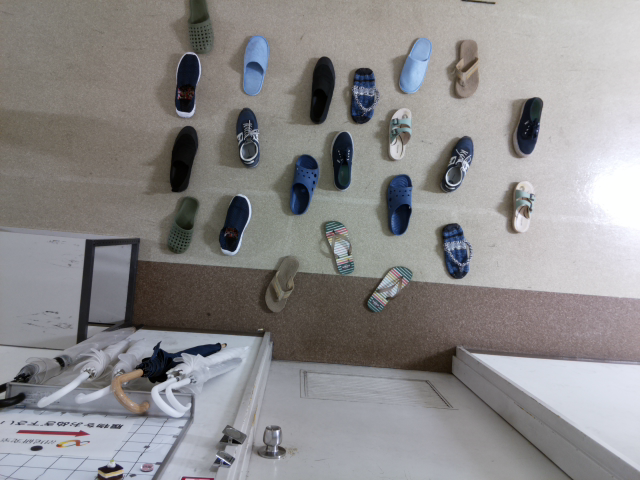Copy of Copy of Copy of Copy of Copy of Copy of Copy of Copy of Copy of Copy of: (302, 53, 340, 127), (167, 51, 207, 121), (285, 149, 323, 221), (162, 123, 201, 193), (437, 131, 477, 197), (379, 172, 418, 238), (232, 103, 265, 175), (327, 125, 360, 195), (237, 31, 270, 99), (177, 1, 217, 56), (346, 65, 380, 128), (385, 101, 417, 167)
Copy of Copy of Copy of Copy of Copy of Copy of Copy of Copy of Copy of shoe: (392, 33, 435, 98)
Copy of Copy of Copy of Copy of Copy of Copy of Copy of Copy of shoe: (447, 35, 483, 102)
Copy of Copy of Copy of Copy of Copy of Copy of Copy of shoe: (508, 93, 546, 163)
Copy of Copy of Copy of Copy of Copy of Copy of shoe: (505, 177, 540, 237)
Copy of Copy of Copy of Copy of Copy of shoe: (434, 218, 475, 282)
Copy of Copy of Copy of Copy of shoe: (364, 259, 417, 316)
Copy of Copy of Copy of shoe: (319, 218, 359, 278)
Copy of Copy of shoe: (261, 252, 303, 317)
Copy of shoe: (215, 191, 253, 258)
shoe: (164, 193, 201, 260)
